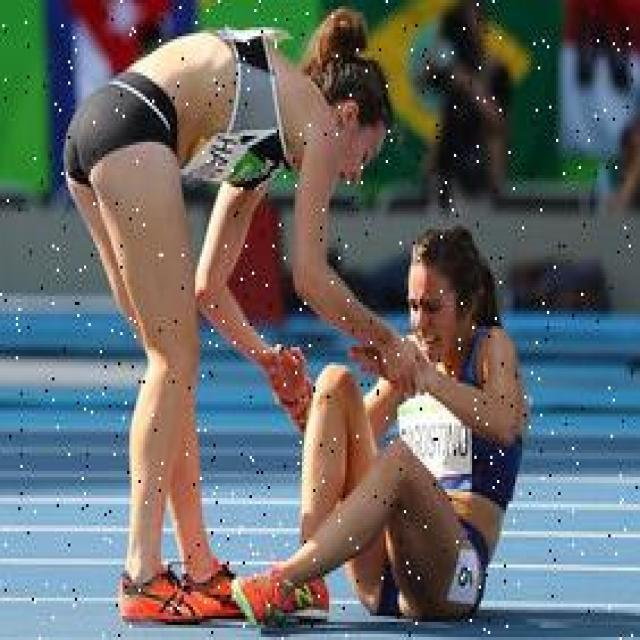fall: (240, 238, 510, 625)
